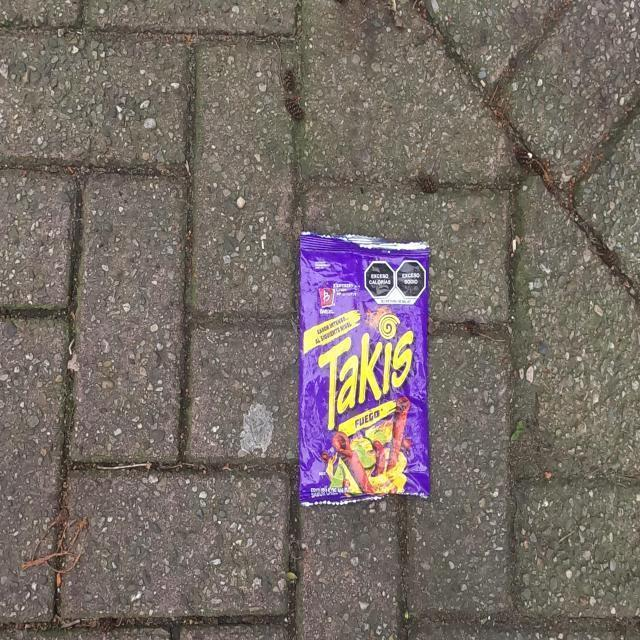Plastic: (297, 228, 432, 511)
